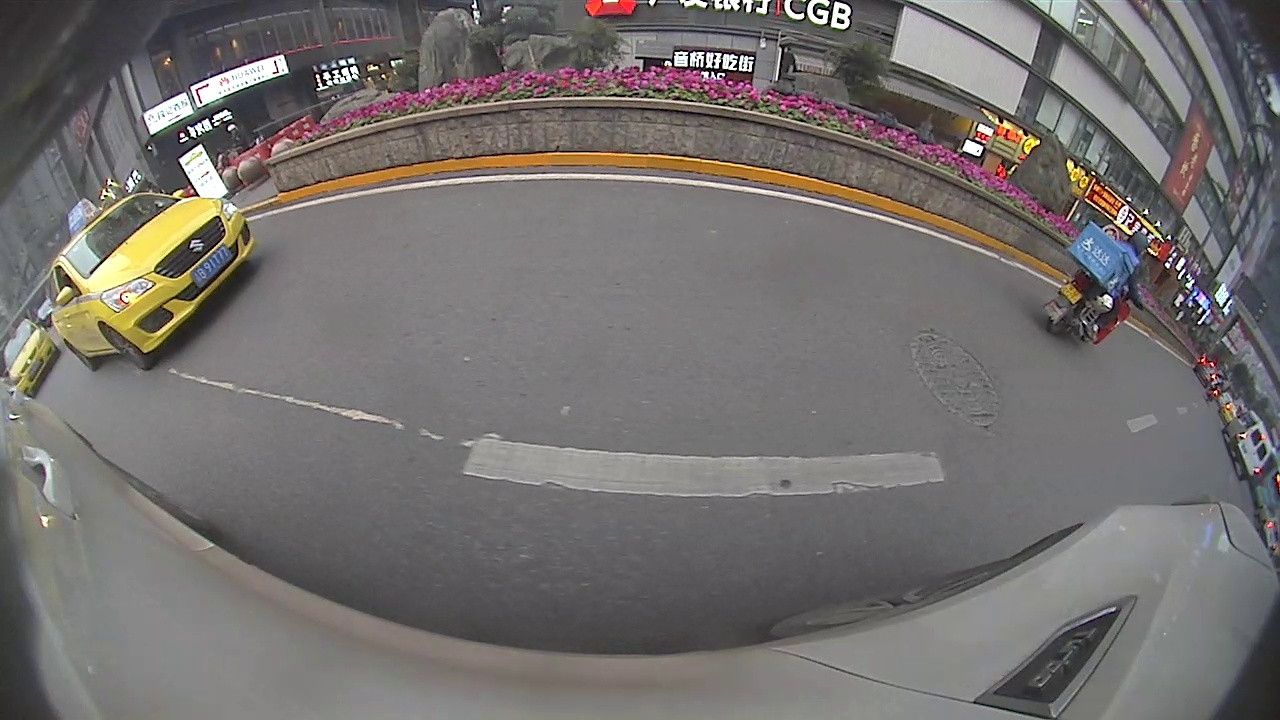car: (43, 191, 255, 368), (1221, 408, 1274, 482)
front: (98, 327, 149, 372)
rear: (66, 340, 97, 374)
rider: (1040, 218, 1150, 348)
